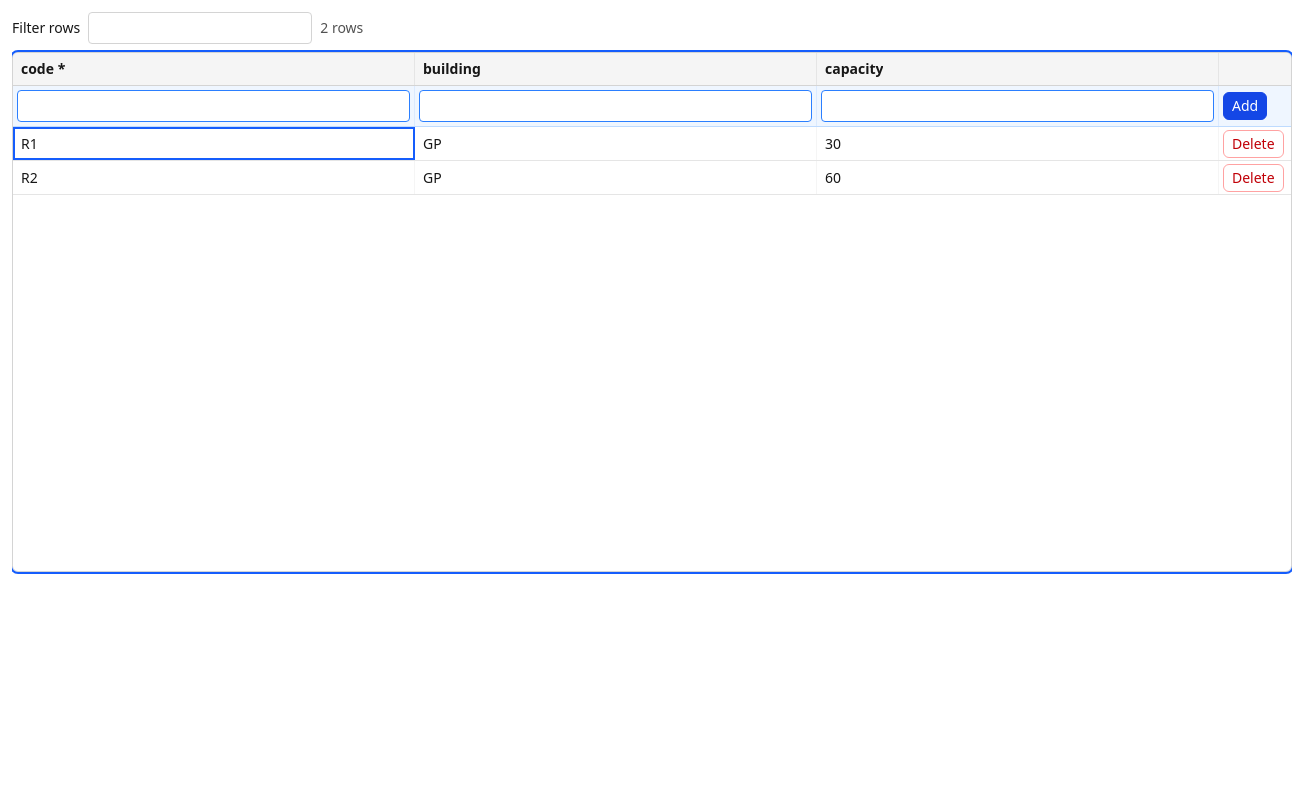
Test: row-level problems from the server are listed and the edit stays open
Expected: the text "60" is shown, [825,168,841,188]
Press Arrowright Enter
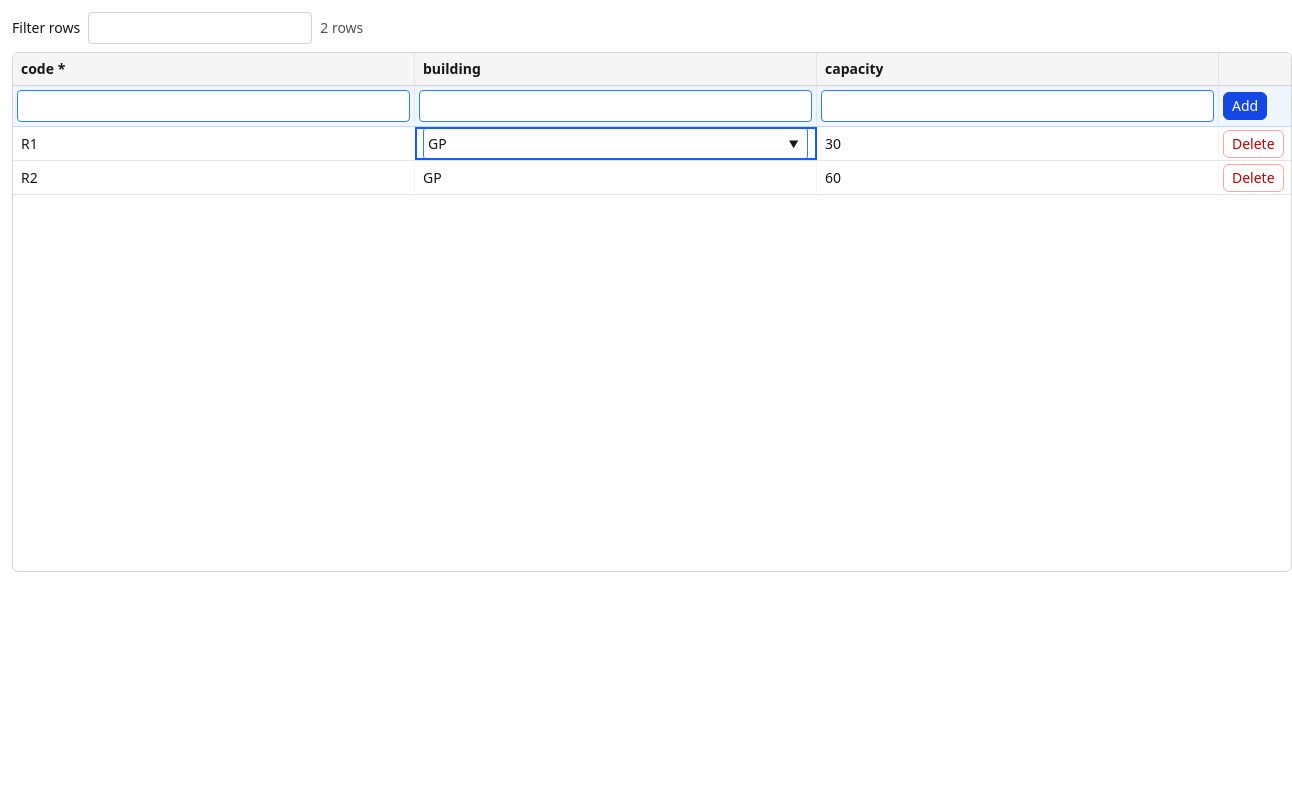
Replace the text in the field named "building of R1" with "X" at (616, 144), box [423,127,808,160]
Then press Enter
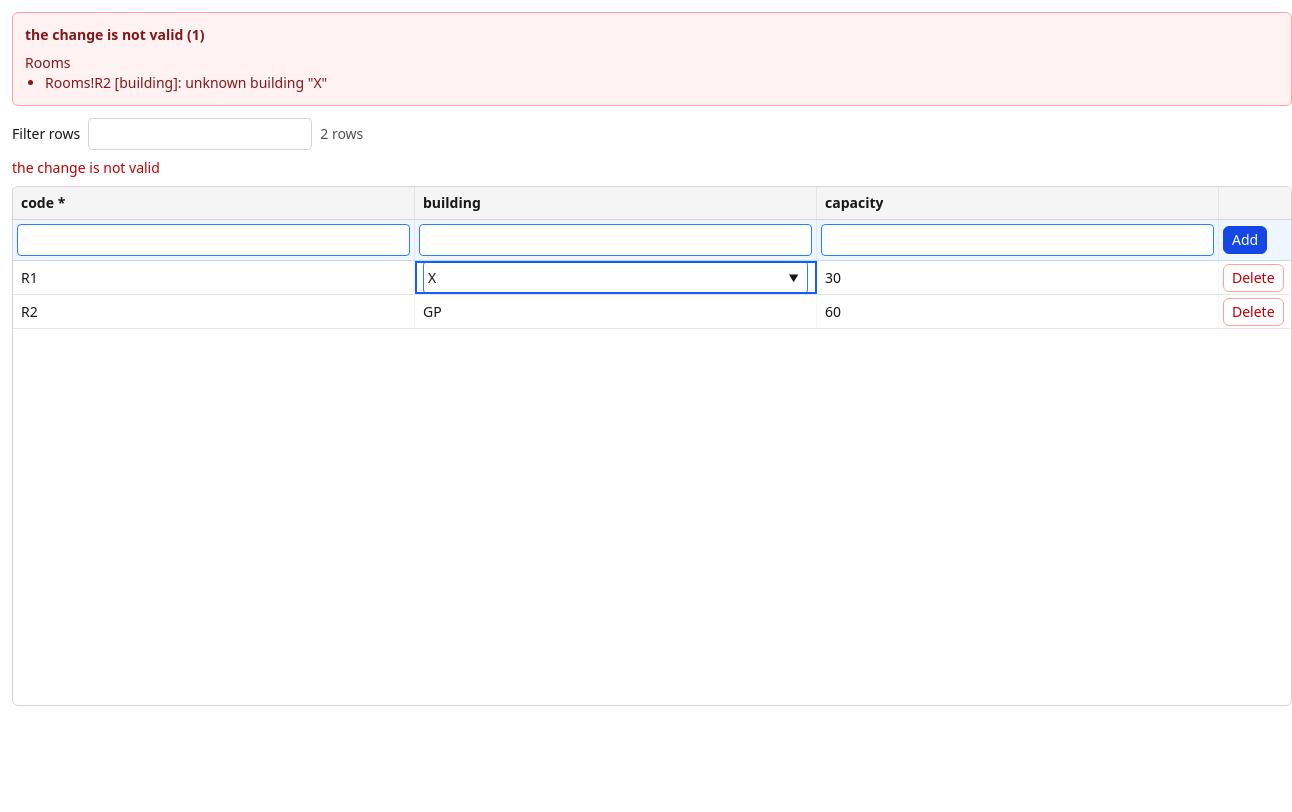
Now the field named "building of R1" is shown, box [423,261,808,294]
Now the list item "Rooms!R2 [building]: unknown building \"X\"" is shown, box [45,73,327,92]
